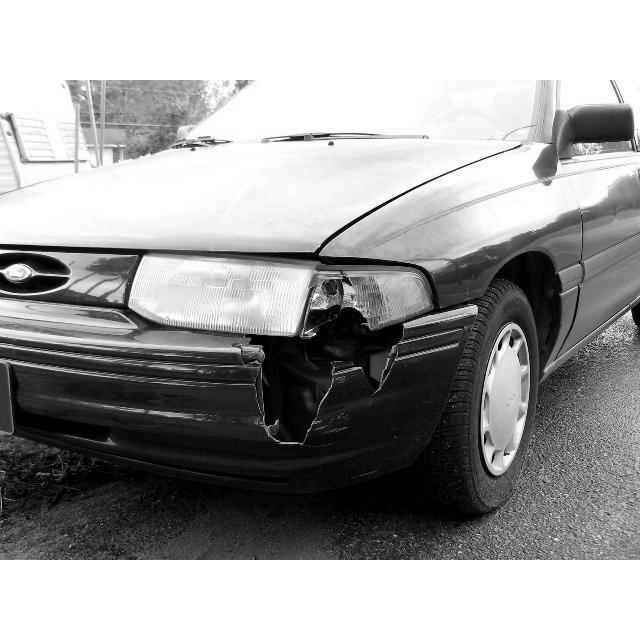Headlight-damage: (120, 245, 428, 347)
front-bumper-dent: (158, 323, 468, 485)
